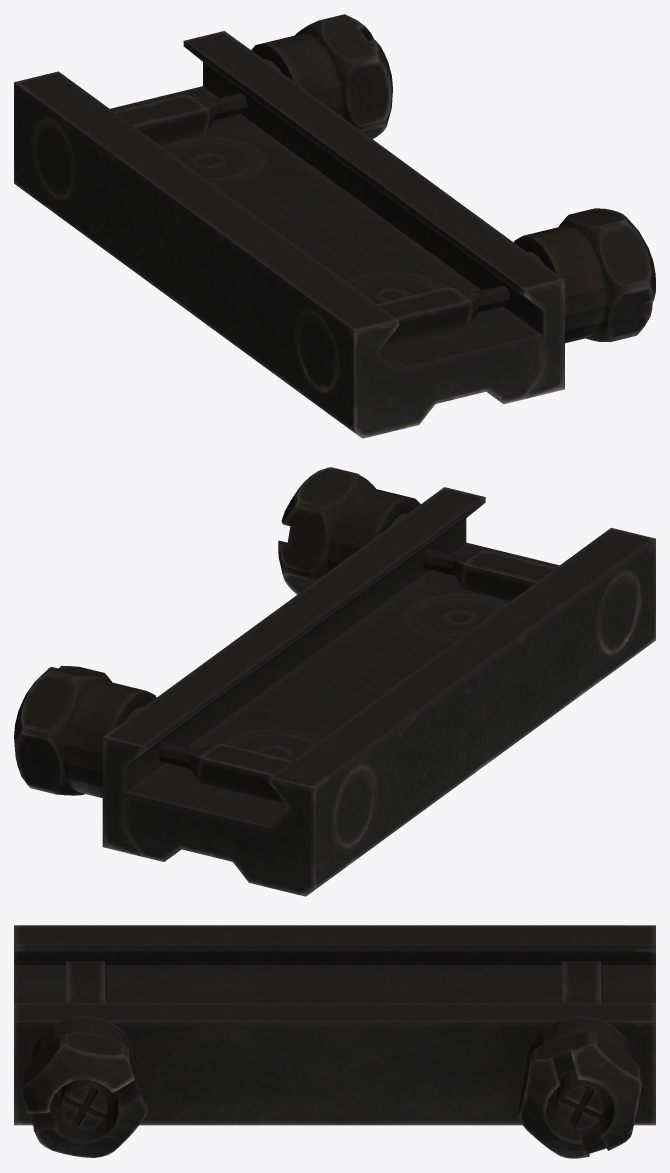
The picture shows the model from 3 angles, top to bottom: view 1: azimuth 30°, elevation 25°; view 2: azimuth 150°, elevation 25°; view 3: azimuth 270°, elevation 25°; orthographic projection. The views are drawn at different scales.
Visible parts, largest first — view 1: TW_5c1cdd302e221602b3137250_PZ_Import; view 2: TW_5c1cdd302e221602b3137250_PZ_Import; view 3: TW_5c1cdd302e221602b3137250_PZ_Import.
Boxes of the visible parts, x1,y1,x2,y2 form: TW_5c1cdd302e221602b3137250_PZ_Import: (14,14,655,438); TW_5c1cdd302e221602b3137250_PZ_Import: (14,467,655,896); TW_5c1cdd302e221602b3137250_PZ_Import: (14,925,655,1158).
Bounding box in the file's own units: 0.0239 × 0.0442 × 0.00926.
Materials: 1 (1 with a texture image).
